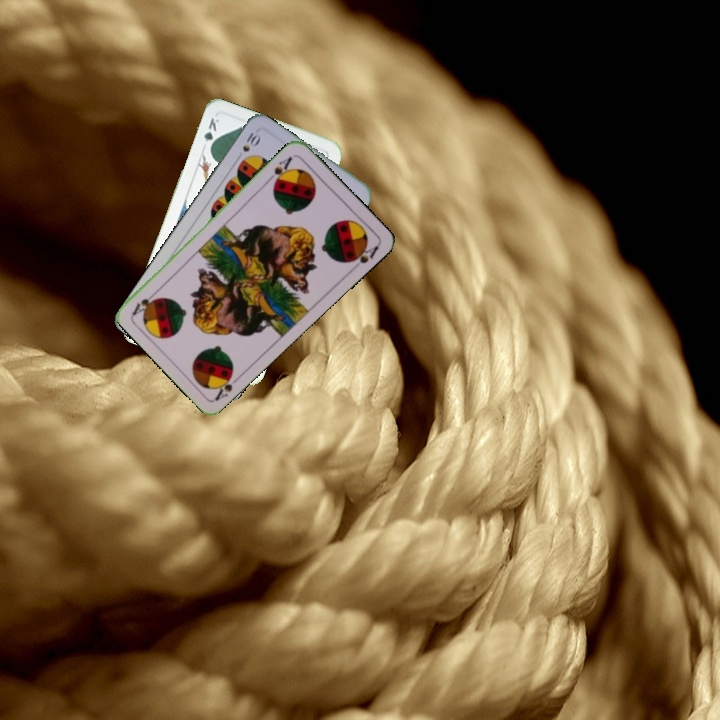GK: (200, 114, 222, 153)
S10: (238, 128, 263, 155)
SA: (209, 366, 244, 403), (264, 152, 295, 187)
